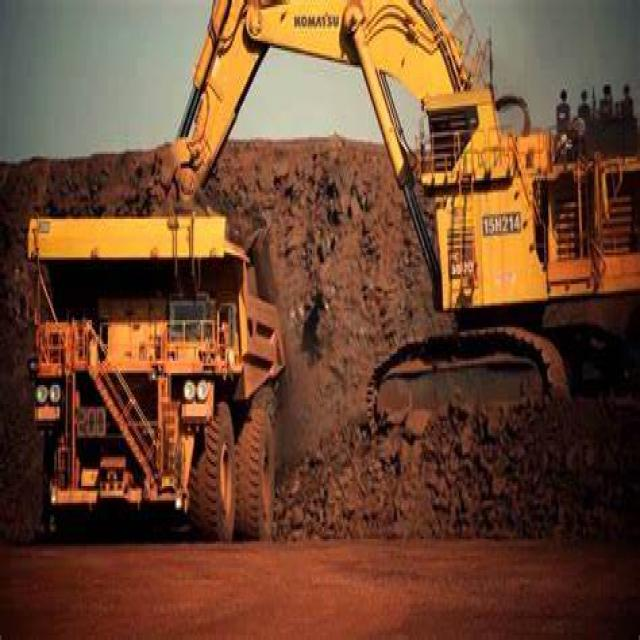dump_truck: (8, 195, 305, 553)
